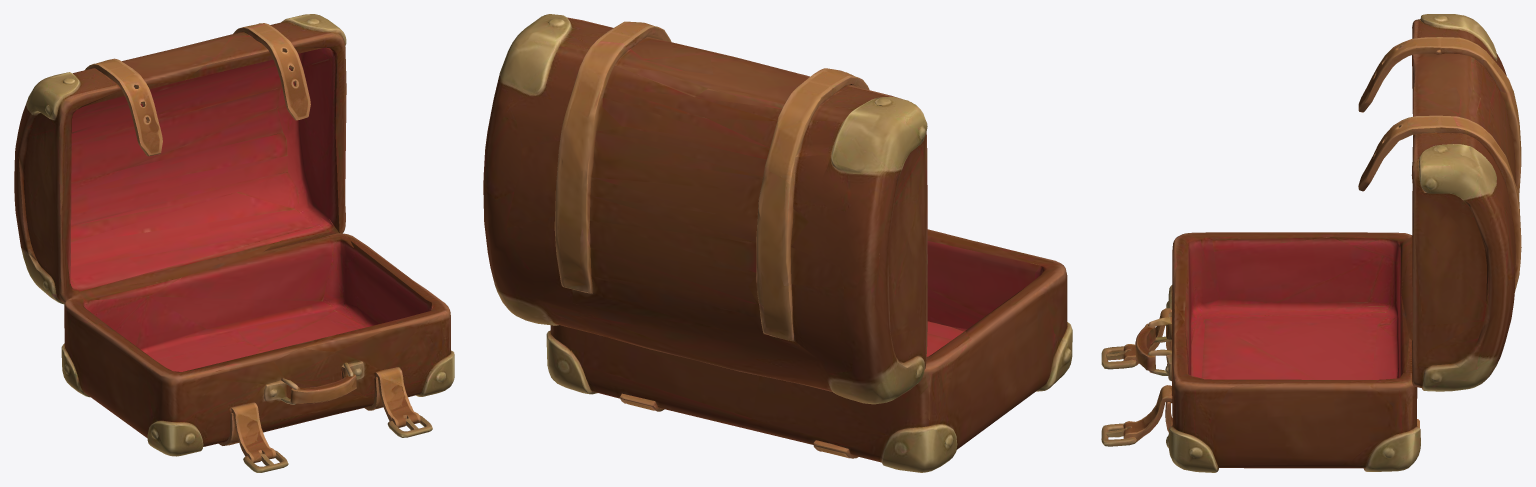
The model's file is openCase.glb.
3 views of the same model, side by side, from view 1: azimuth 30°, elevation 25°; view 2: azimuth 150°, elevation 25°; view 3: azimuth 270°, elevation 25° (orthographic). The views are drawn at different scales.
Size of the model in its own units: 1.72 by 1.6 by 1.9.
Materials: 1 (1 with a texture image).
